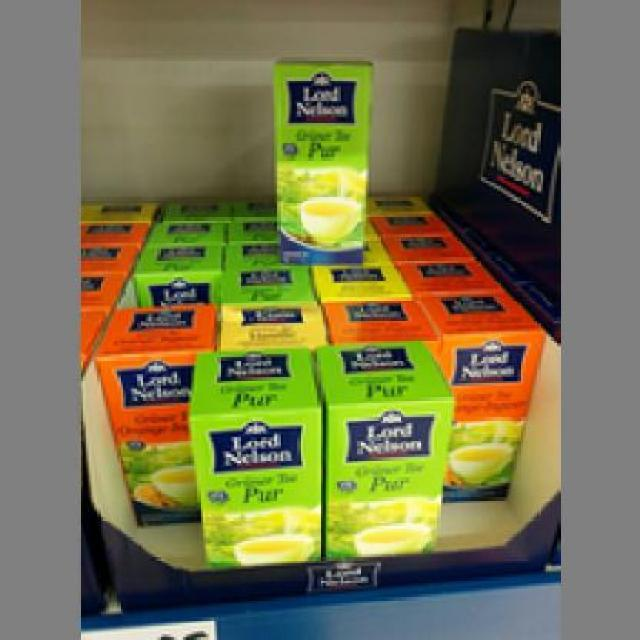Tea: (180, 343, 323, 560), (317, 337, 452, 560), (92, 300, 212, 520), (420, 294, 543, 500), (272, 54, 372, 263)
